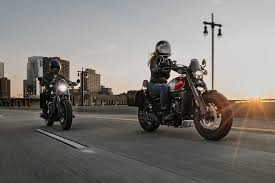motorcycle: (127, 59, 235, 143), (35, 73, 83, 129)
